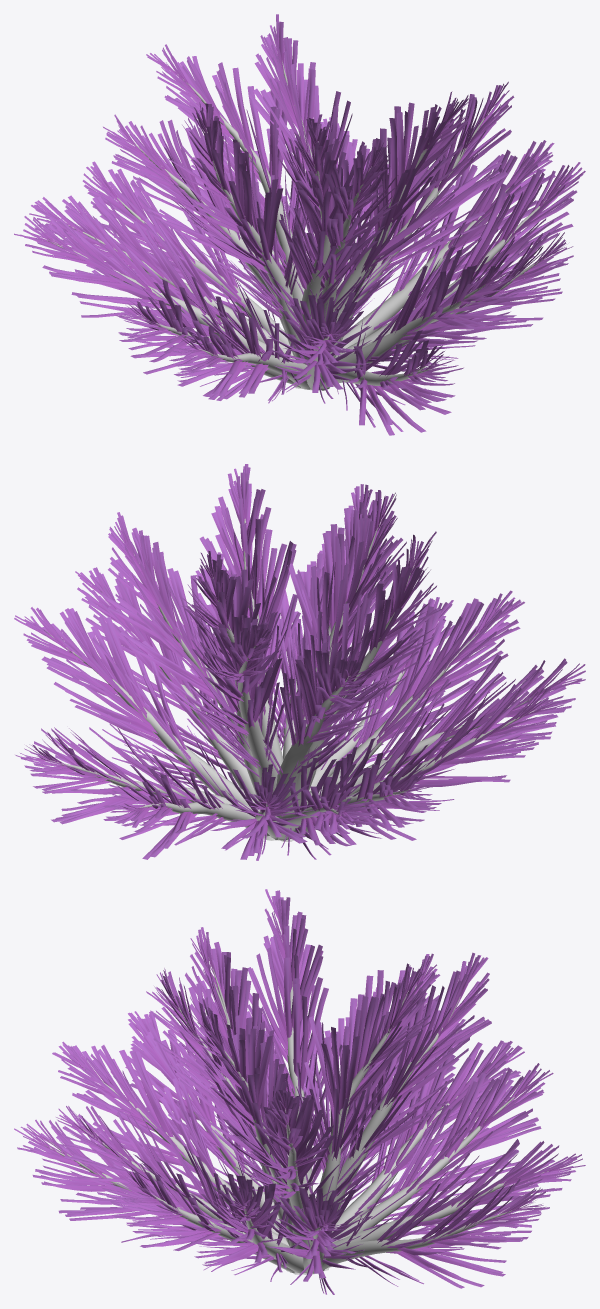
The model's file is xshuicao_1.FBX.
3 views of the same model, one above another, from view 1: azimuth 30°, elevation 25°; view 2: azimuth 150°, elevation 25°; view 3: azimuth 270°, elevation 25° (orthographic). The views are drawn at different scales.
Parts seen in each view (by area): view 1: sanhu026; view 2: sanhu026; view 3: sanhu026.
Part boxes in pixels (x1,y1,x2,y2): sanhu026: (14, 14, 585, 435); sanhu026: (14, 464, 585, 860); sanhu026: (14, 889, 585, 1294).
Size of the model in its own units: 68.36 by 41.98 by 69.86.
